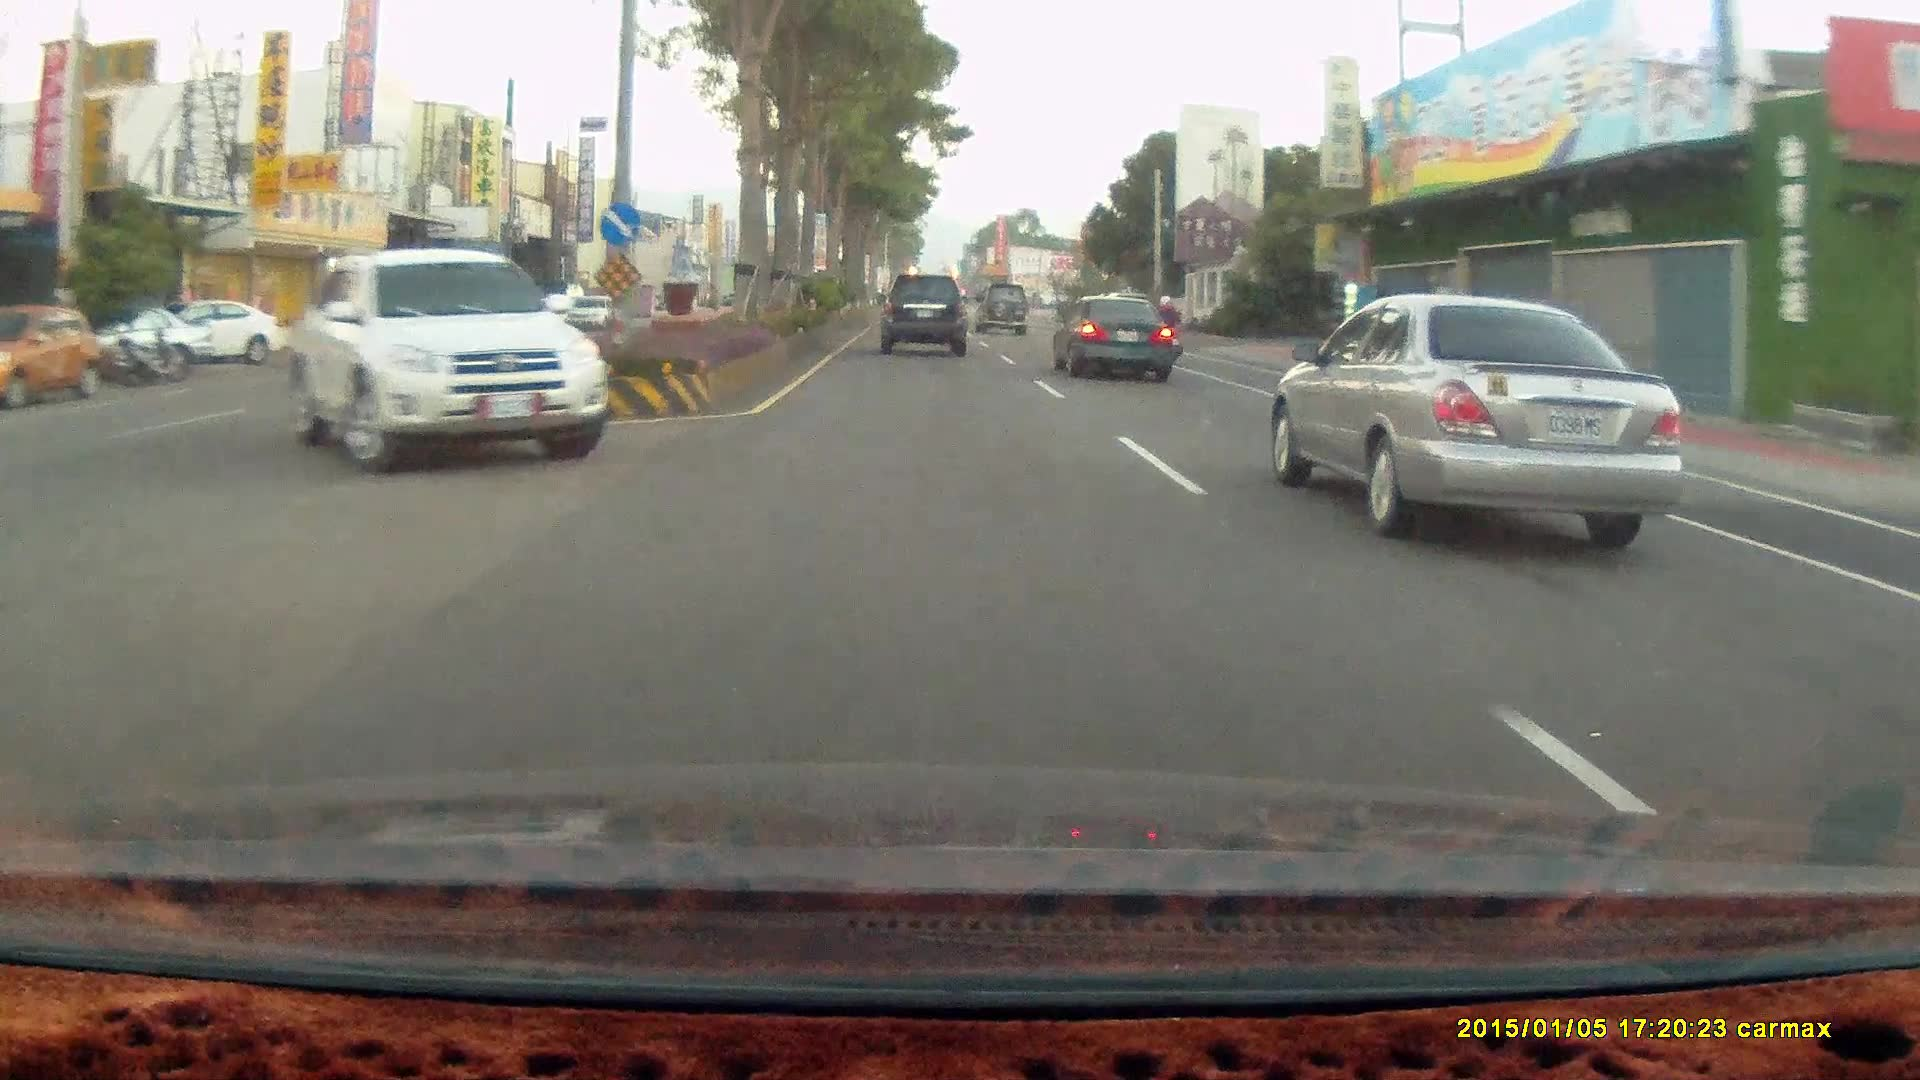rider: (1145, 290, 1185, 368)
vehicle: (1276, 287, 1690, 537), (295, 245, 621, 482), (295, 244, 620, 481), (0, 303, 112, 407), (1049, 290, 1173, 380), (1, 308, 113, 408), (1057, 298, 1180, 384), (130, 294, 285, 360), (144, 298, 291, 366), (882, 273, 972, 361), (878, 271, 966, 352), (975, 283, 1032, 342), (973, 278, 1028, 332)
